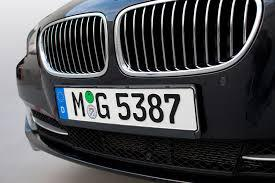3: (131, 93, 148, 122)
5: (114, 92, 131, 121)
7: (163, 93, 183, 125)
8: (147, 93, 164, 124)
G: (95, 92, 110, 119)
M: (70, 90, 85, 118)
